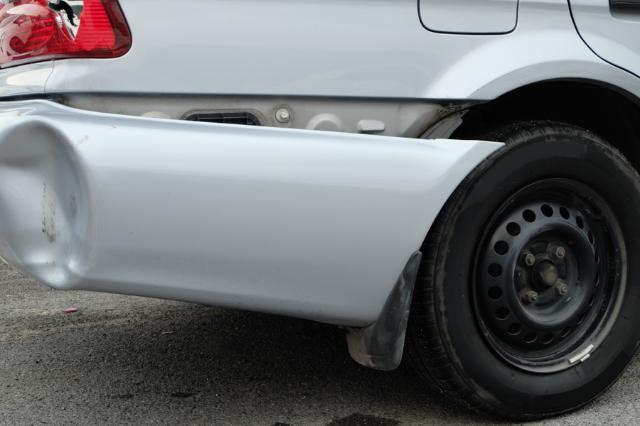Bumper: (0, 100, 487, 311)
Light: (0, 0, 137, 60)
